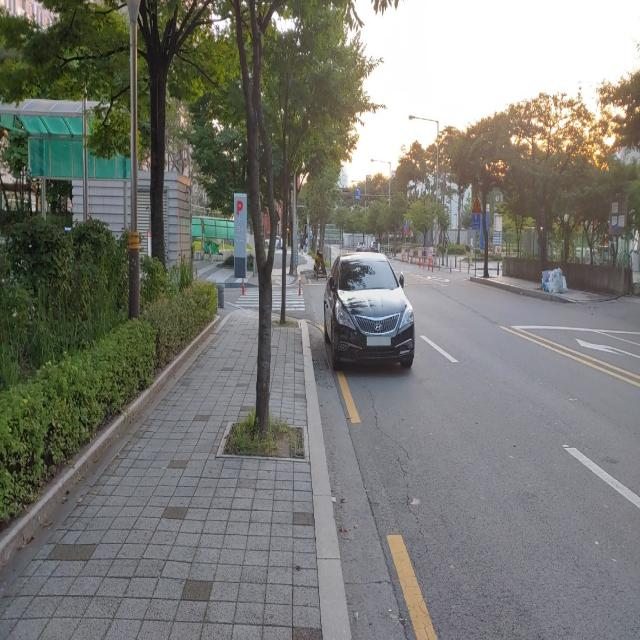횡단보도: (235, 287, 306, 312)
